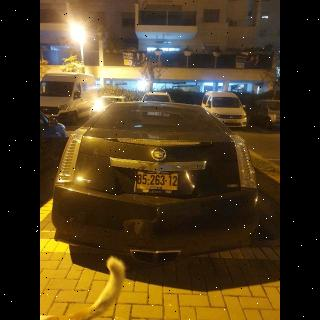LicensePlate: (139, 172, 178, 186)
